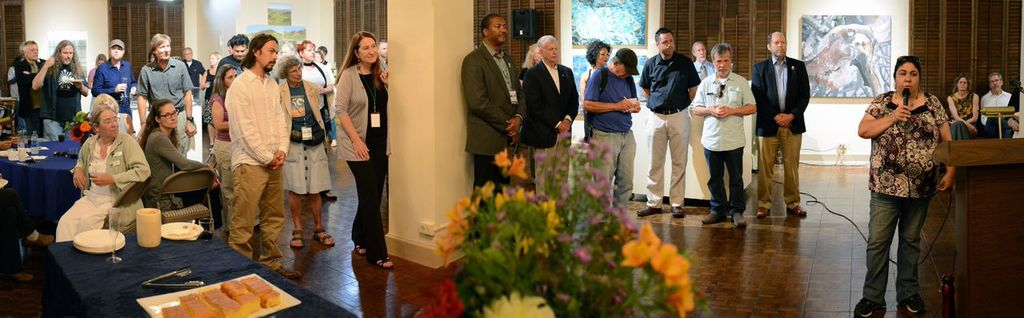Person: (0, 13, 1019, 316)
